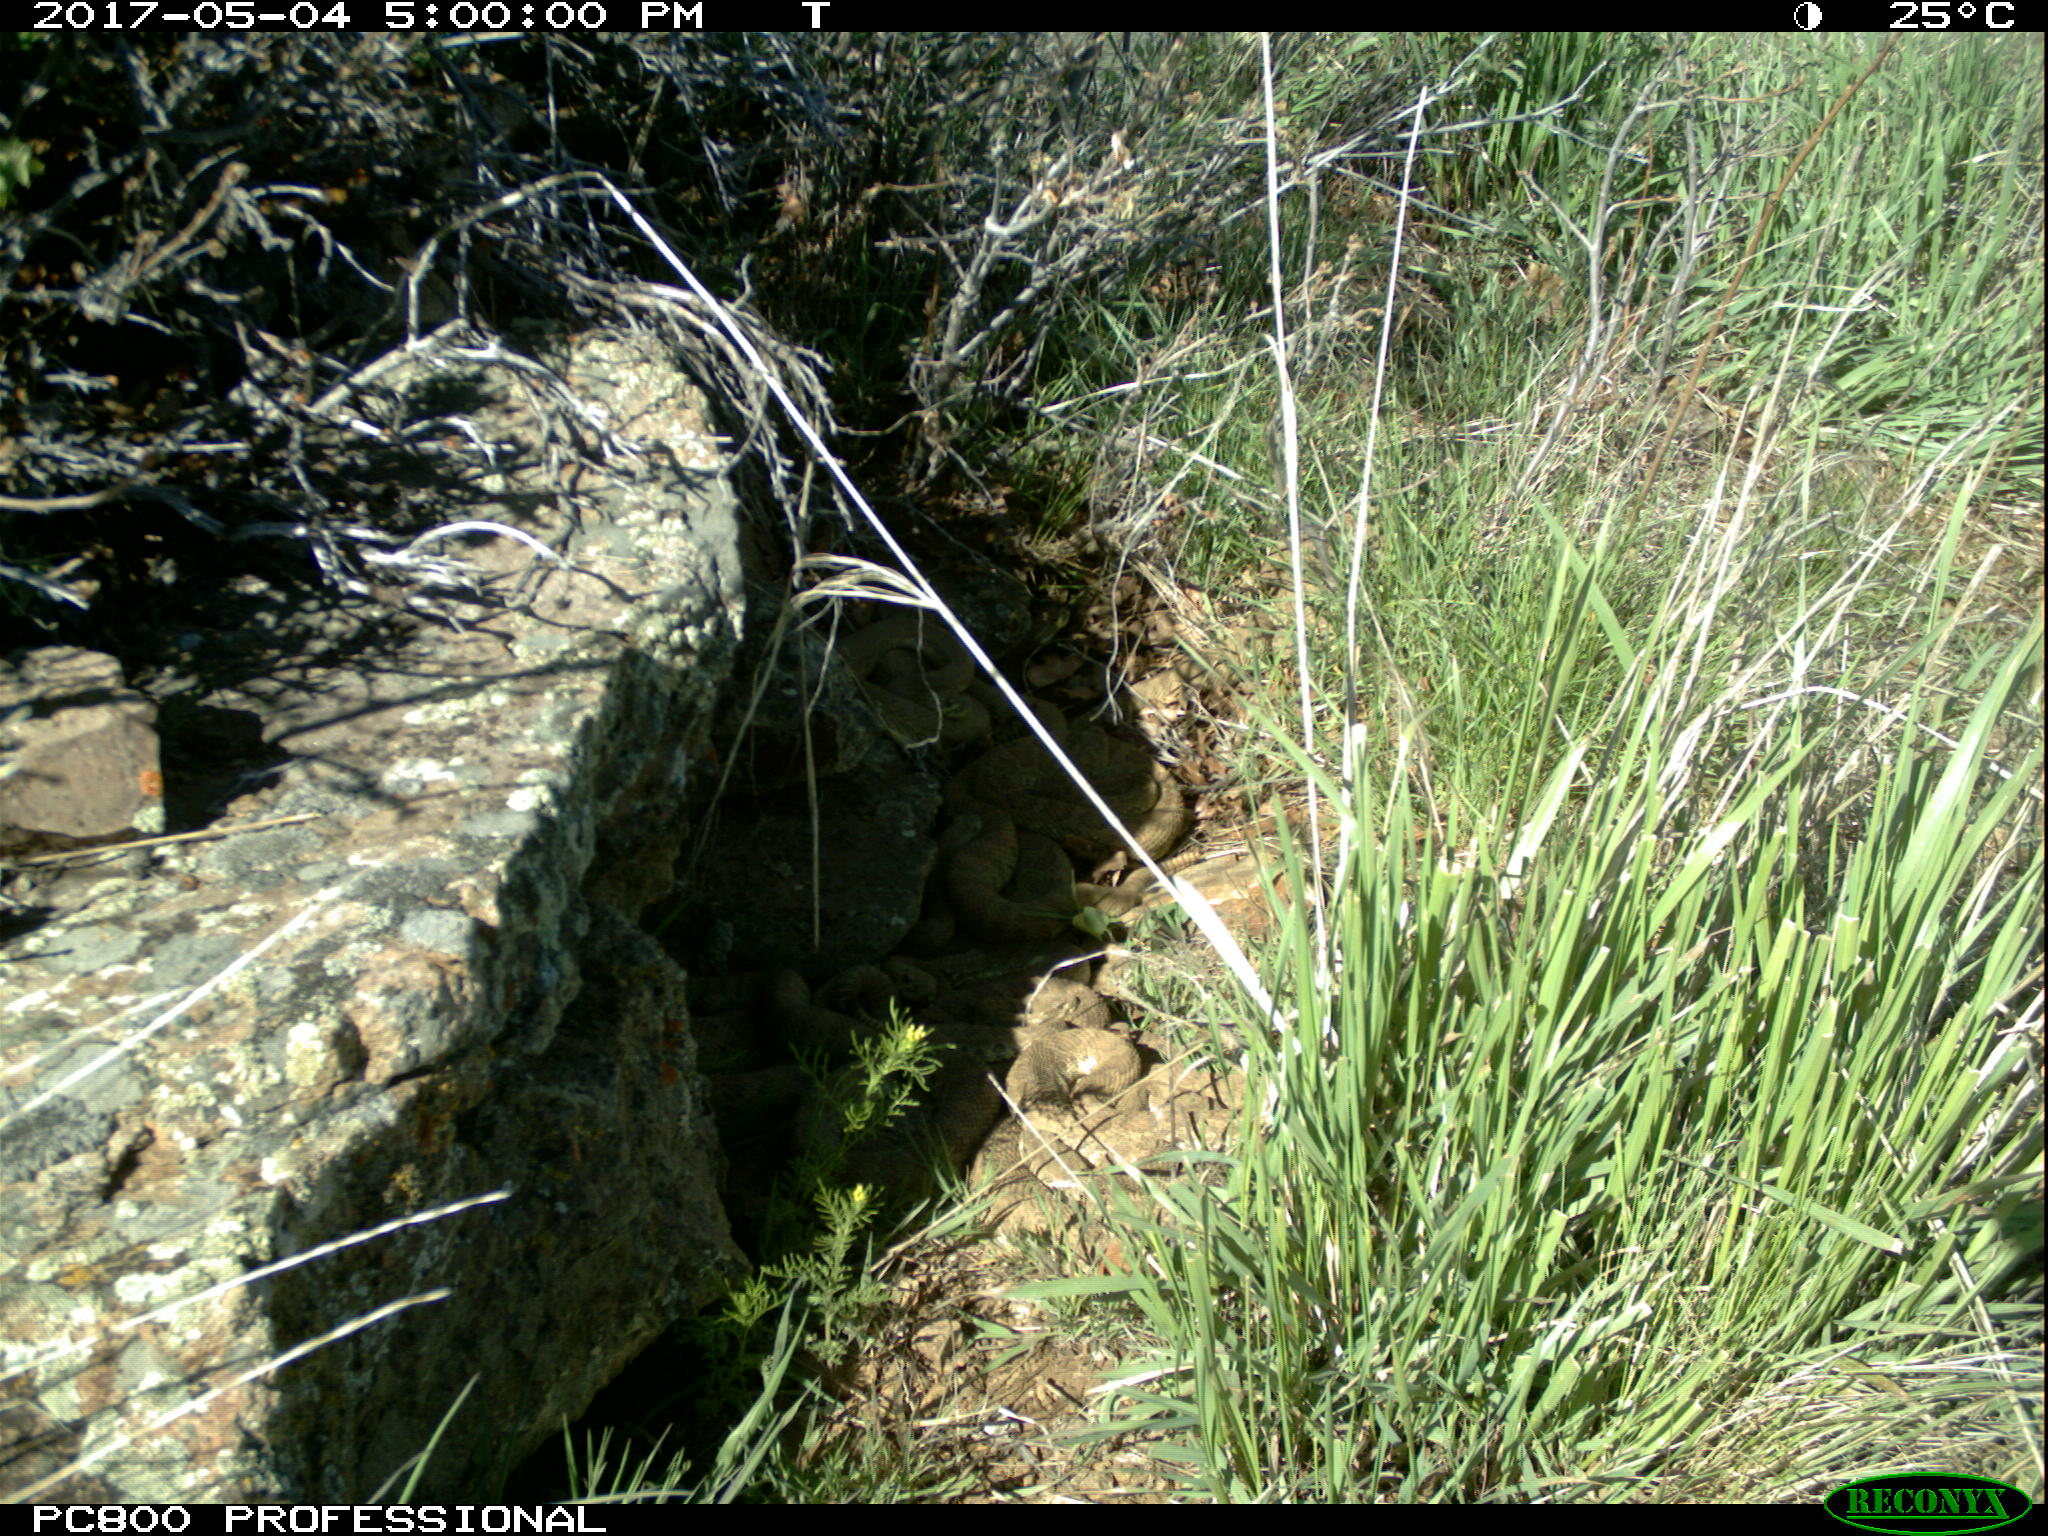snake: (764, 968, 1264, 1247), (955, 681, 1326, 949)
